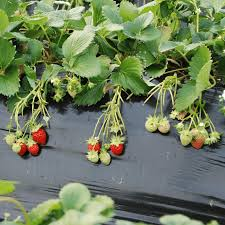ripe: (30, 125, 46, 144), (190, 133, 206, 149), (25, 141, 39, 156), (110, 141, 124, 155), (86, 140, 101, 152), (17, 140, 26, 156)
unripe: (145, 116, 158, 133), (179, 129, 191, 147), (157, 119, 171, 134), (98, 151, 111, 166), (87, 150, 99, 164), (5, 132, 16, 144), (10, 141, 20, 152)
